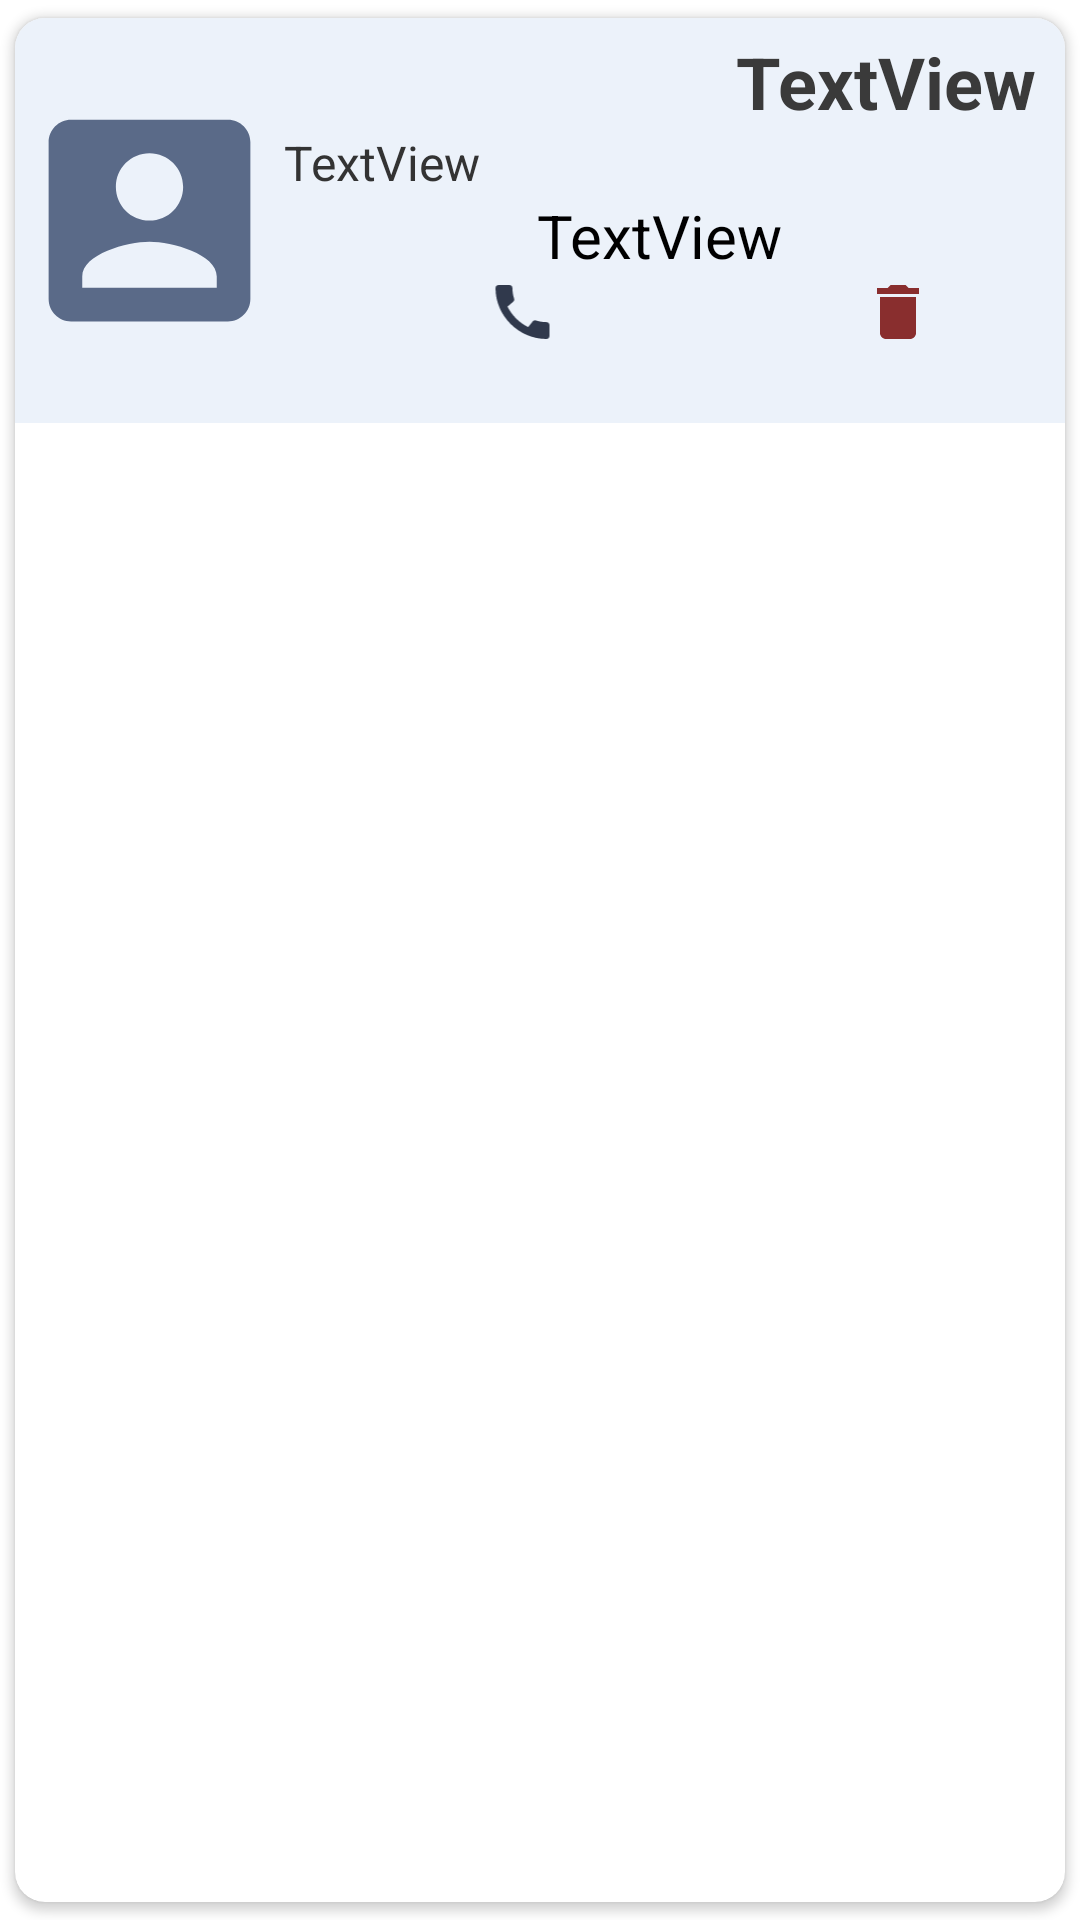

Icon bounding boxes for this 1080 x 1920 phone screenshot, format (x1, y1, x2, y2):
account box: (17, 18, 251, 322)
call: (495, 285, 550, 339)
delete: (877, 285, 919, 339)
